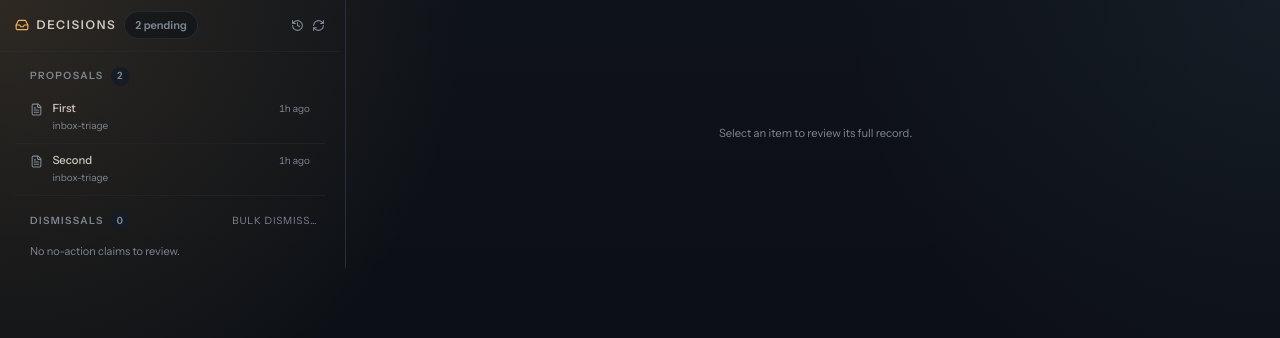
Test: DecisionsView — one item acting never touches another › a pending reject on one proposal leaves the next one fully actionable, and does not clear it
This screenshot has width=1280, height=338.
Click the text "First" at (64, 108), box 52,101 -> 76,115
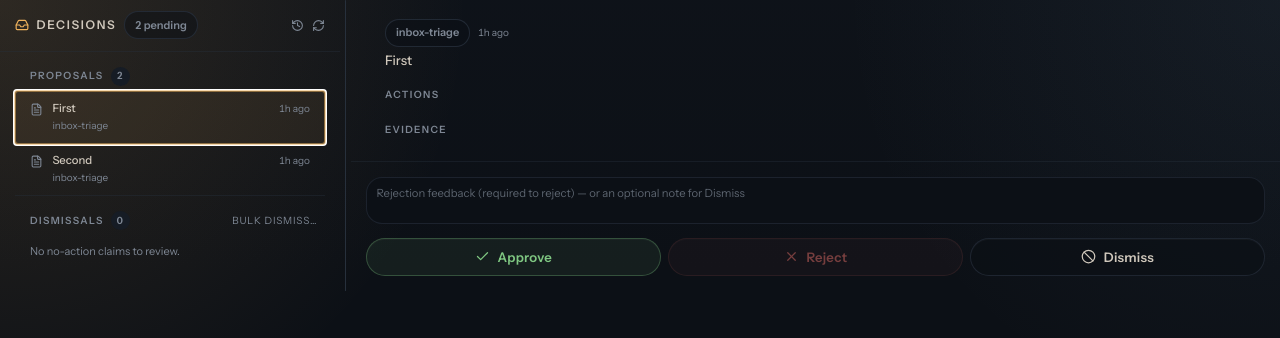
Type "no" into the text box with placeholder "Rejection feedback" at (816, 201), box 366,177 -> 1265,224
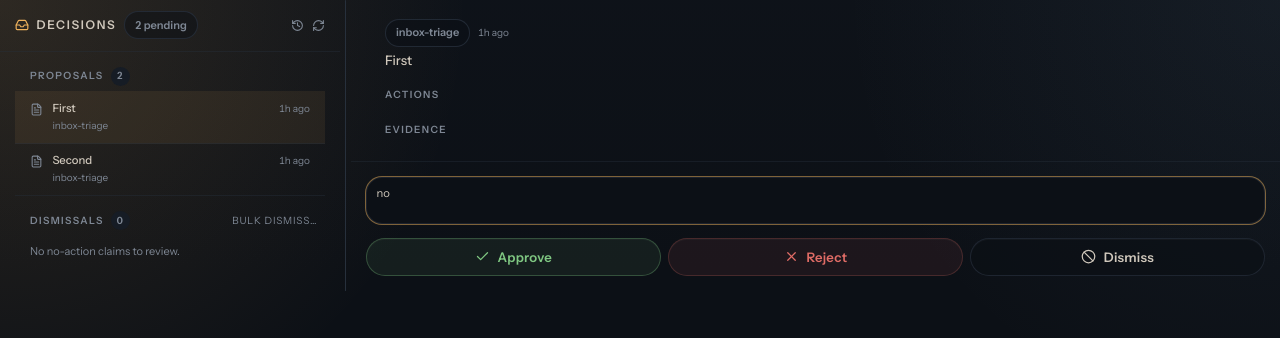
Click the button "Reject" at (816, 257), box 668,238 -> 963,276
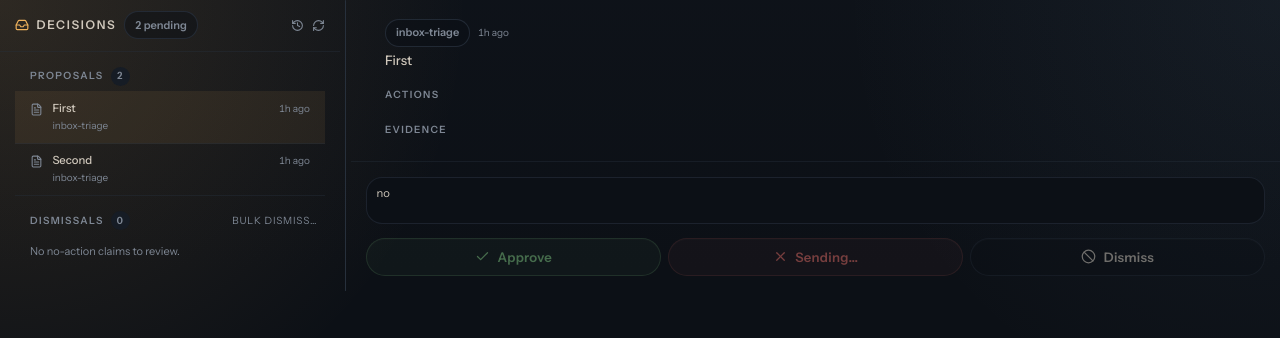
// Move on while p1's reject is still in flight.
Click the text "Second" at (72, 160), box 52,153 -> 92,167
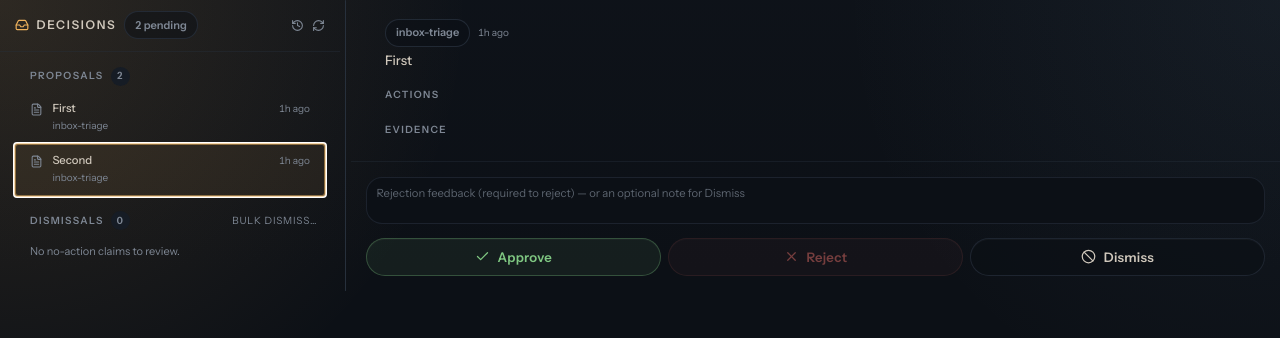
Expected: the heading "Evidence" is shown, 385,122 -> 447,136
Expected: the button "Reject" is shown, 668,238 -> 963,276
Expected: the button "Approve" is enabled, 366,238 -> 661,276
